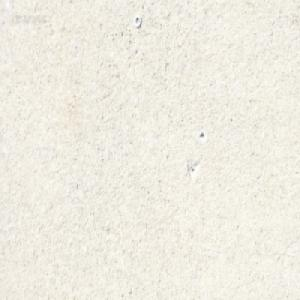Washer: (133, 15, 141, 29)
